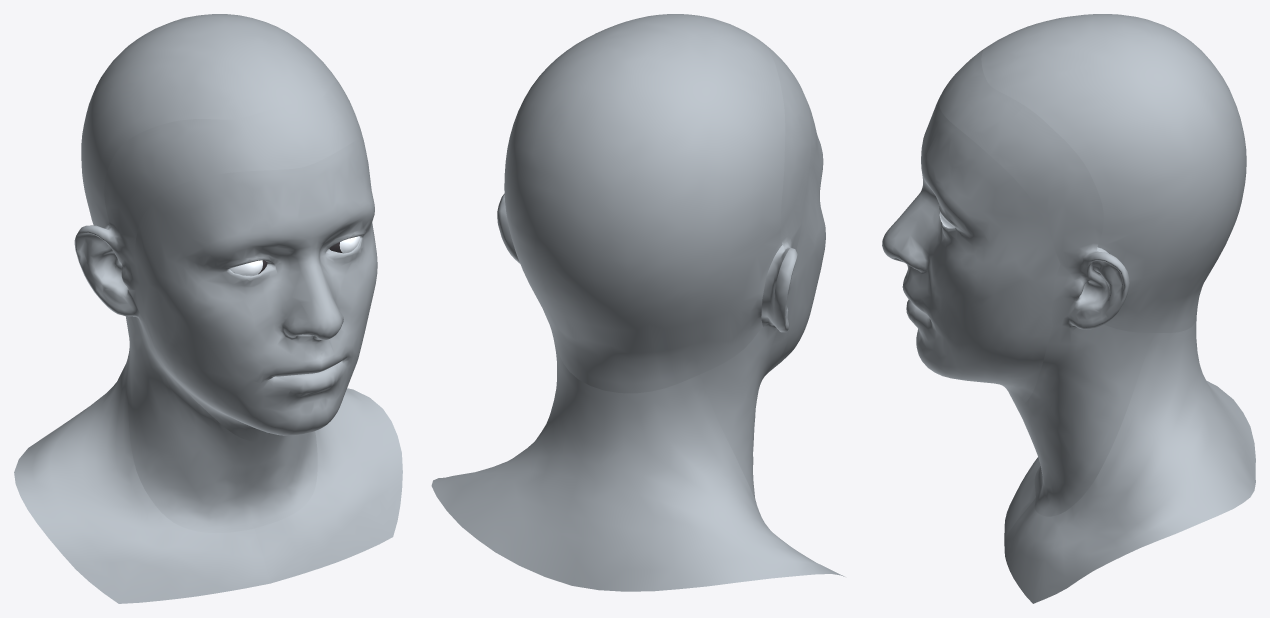
Rendered from 12-hologlyph-bust.glb.
The picture shows the model from 3 angles, left to right: view 1: azimuth 30°, elevation 25°; view 2: azimuth 150°, elevation 25°; view 3: azimuth 270°, elevation 25°; orthographic projection. The views are drawn at different scales.
Visible parts, largest first — view 1: bust-mesh, eyes; view 2: bust-mesh; view 3: bust-mesh.
Boxes of the visible parts, <box> form: bust-mesh: <box>14,14,402,603</box>; eyes: <box>229,236,360,275</box>; bust-mesh: <box>431,14,844,591</box>; bust-mesh: <box>882,14,1255,603</box>.
Size of the model in its own units: 0.7344 by 1 by 0.6601.
Materials: 2 (2 with a texture image).
